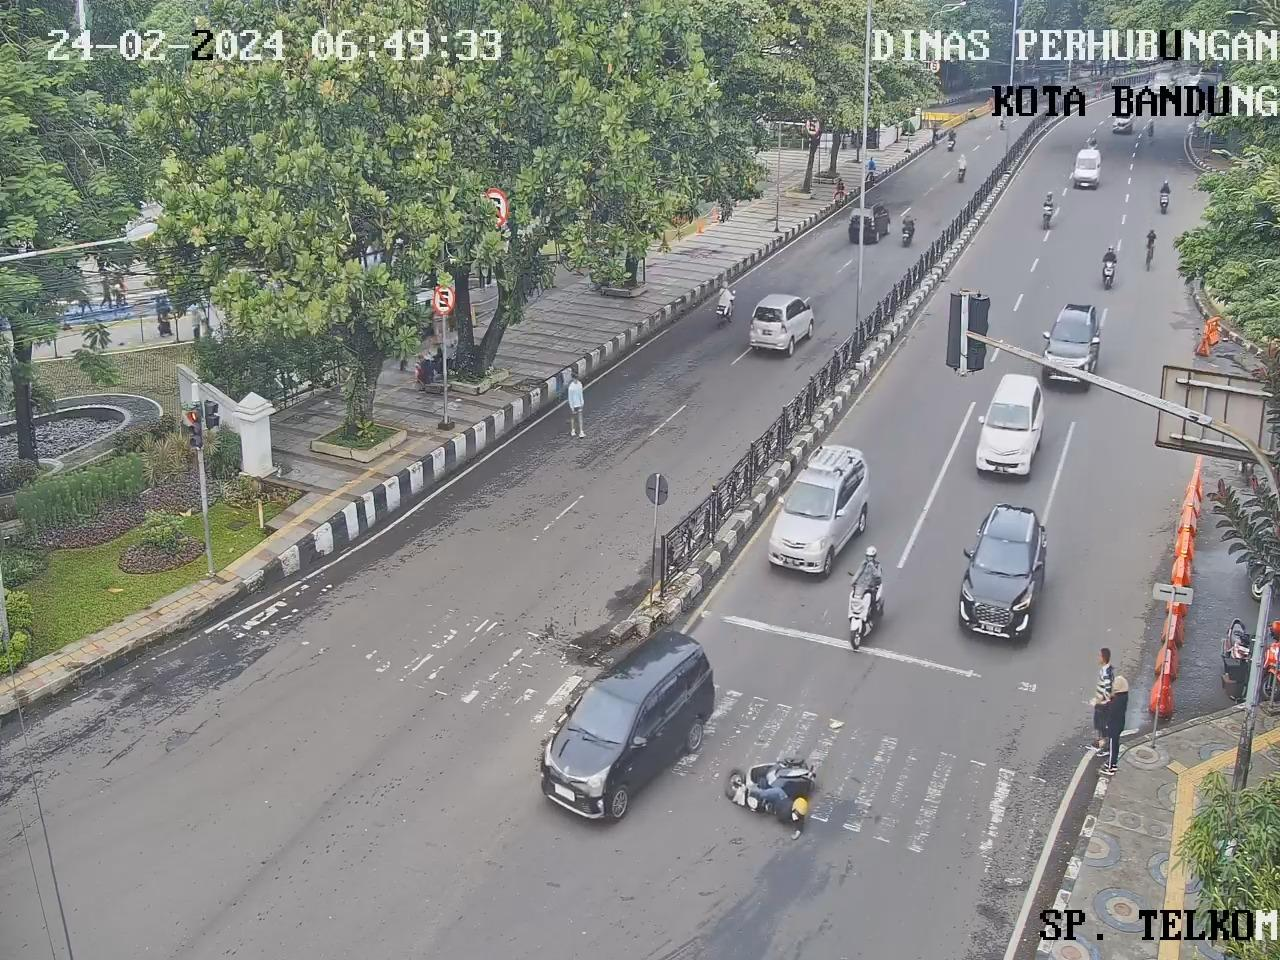accident: (746, 782, 809, 840)
